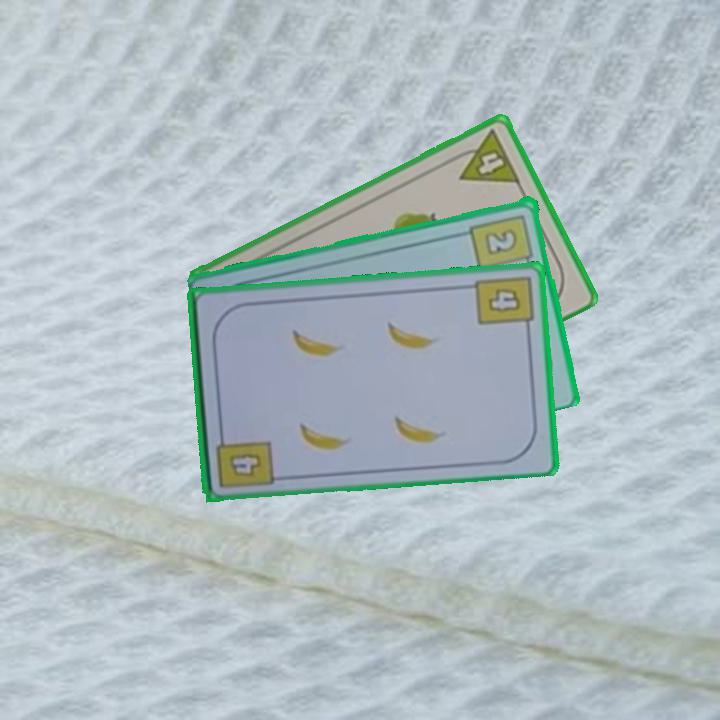2b: (467, 210, 537, 272)
4b: (212, 426, 276, 491), (472, 271, 536, 335)
4p: (446, 126, 523, 186)
